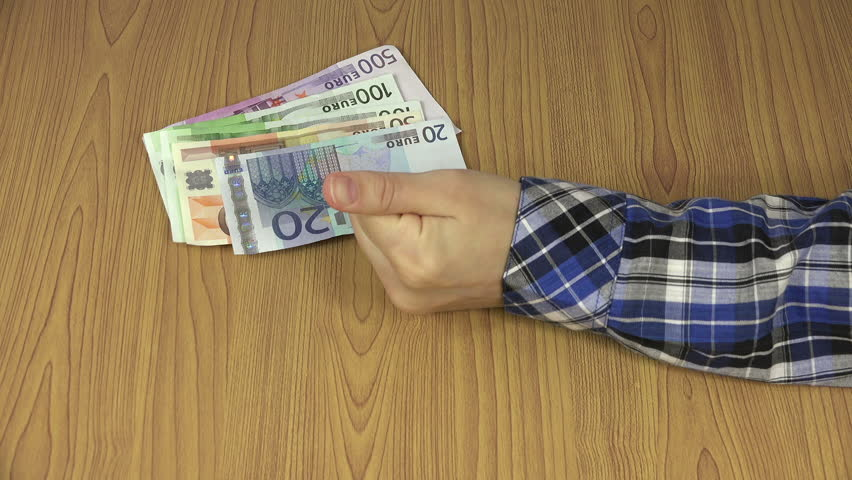billete: (139, 43, 471, 259)
